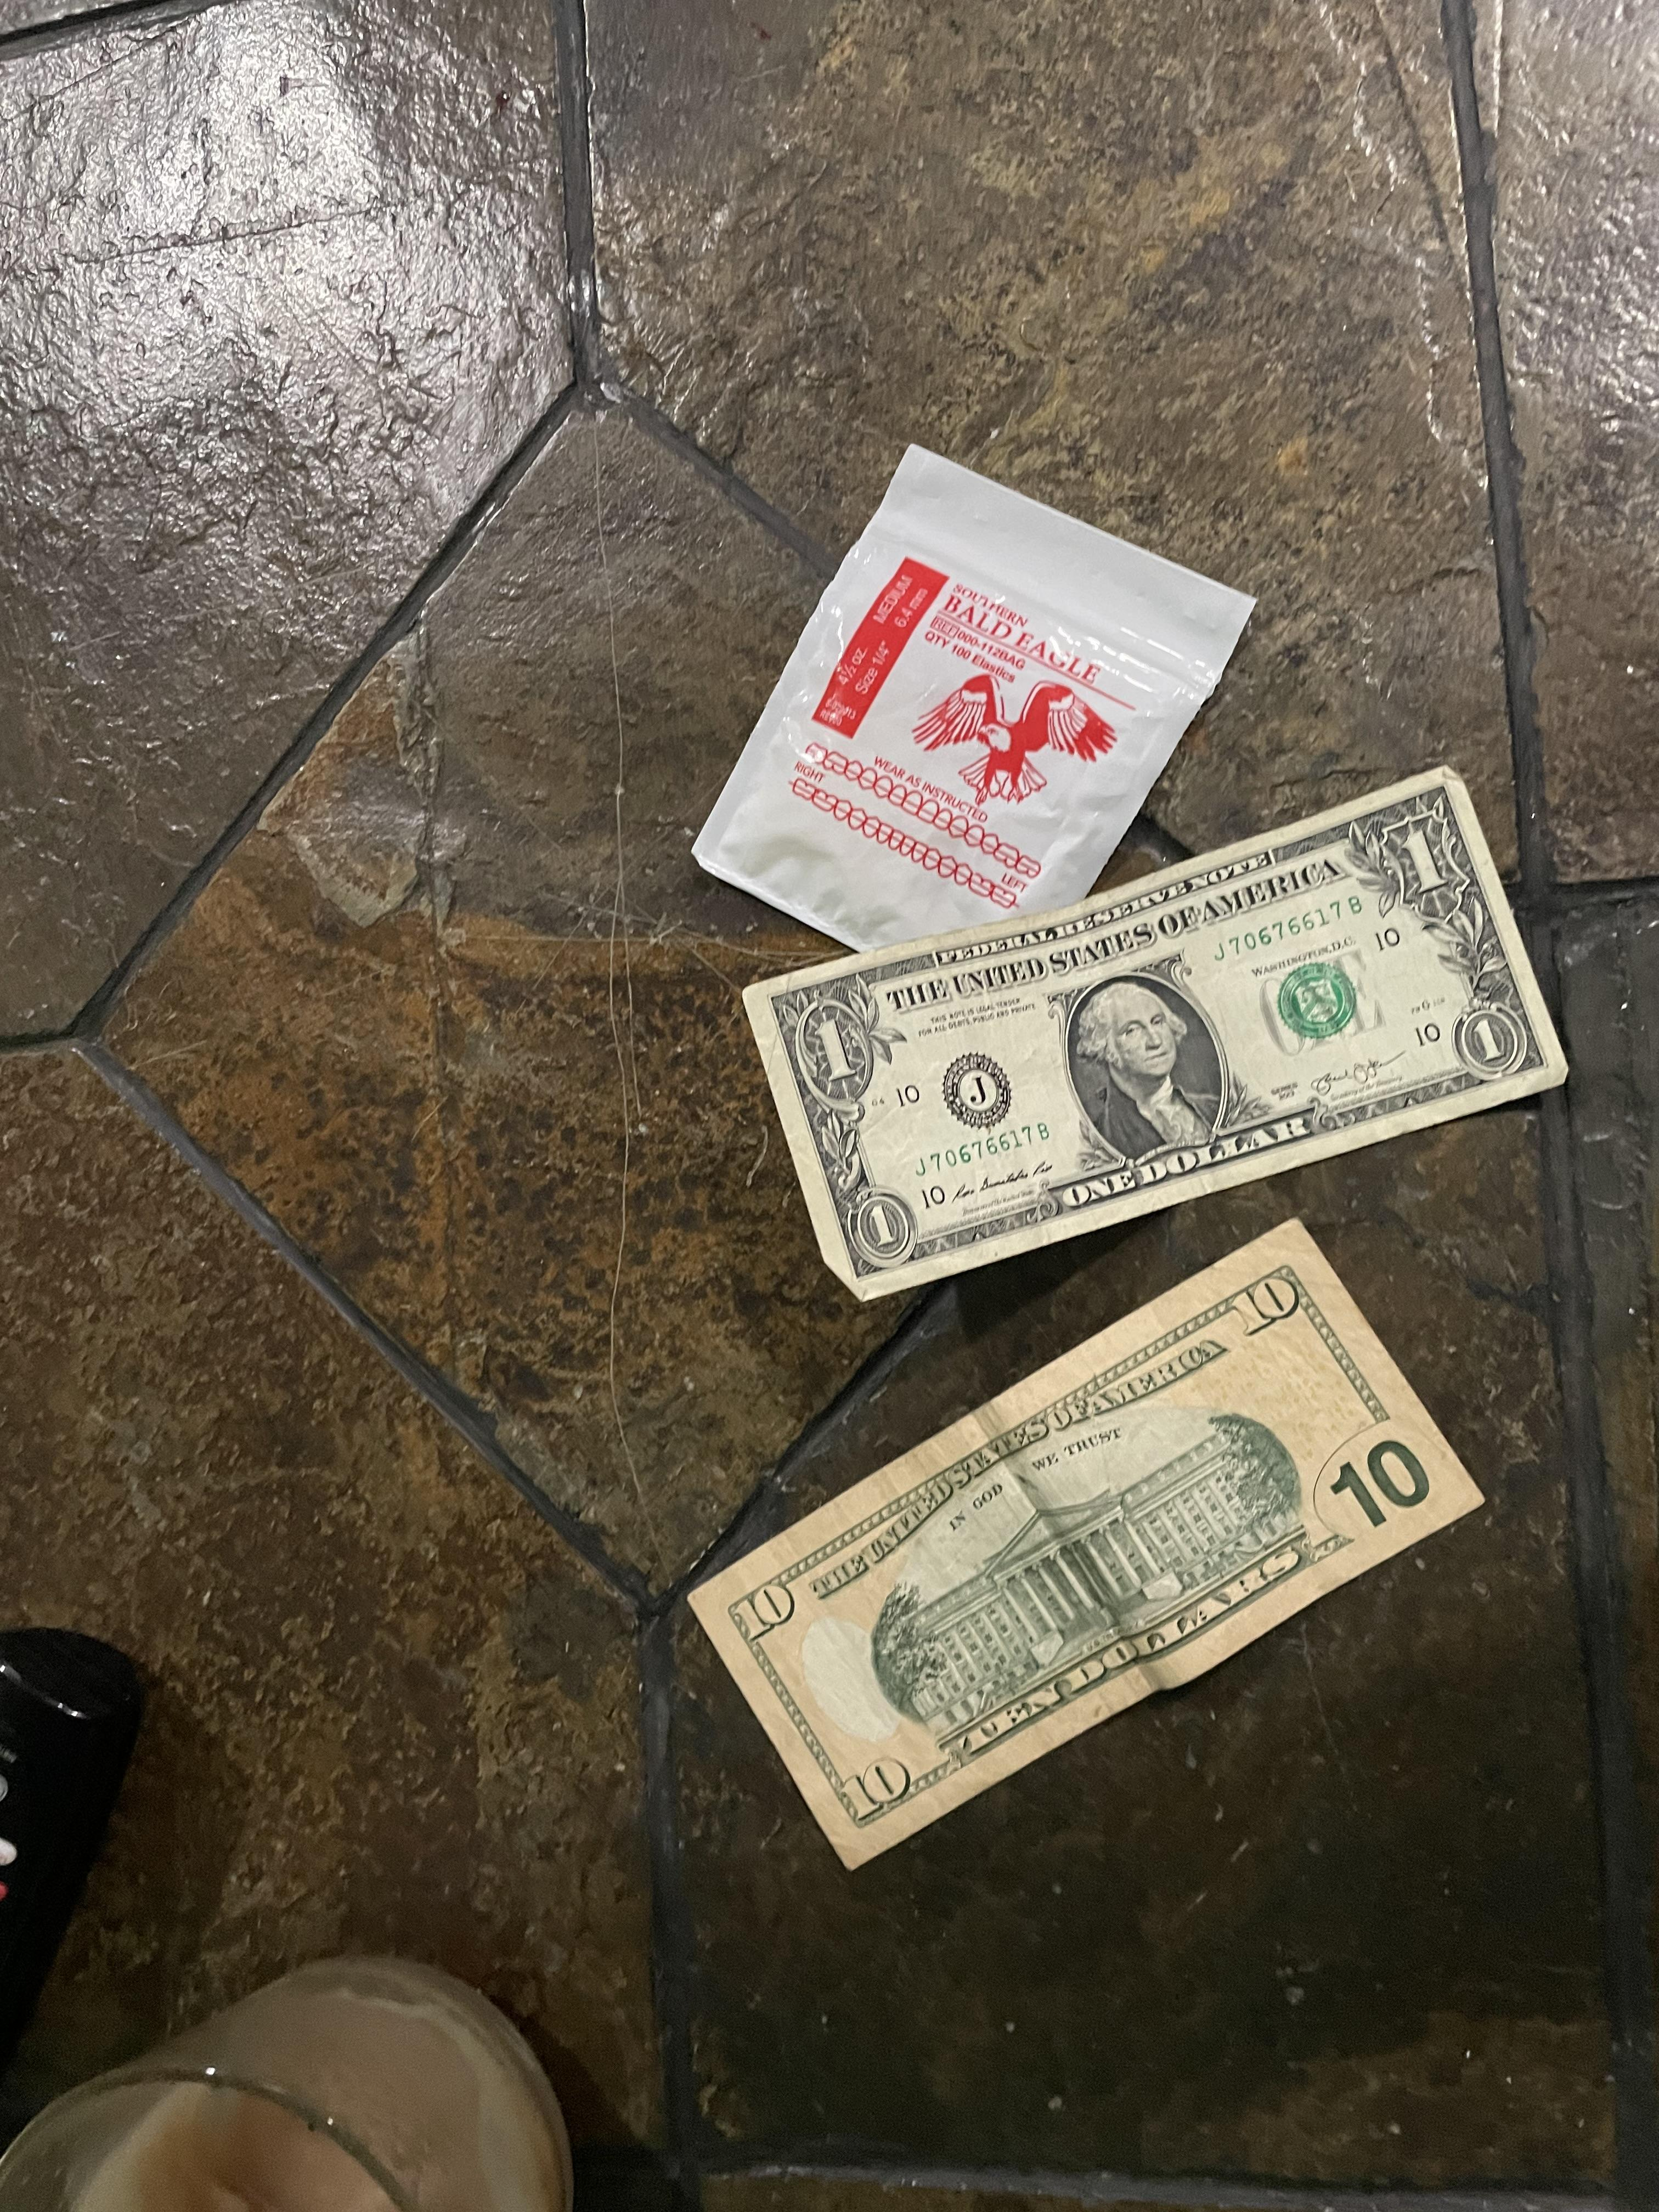OneBill: (741, 751, 1595, 1306)
TenBill: (674, 1223, 1495, 1871)
